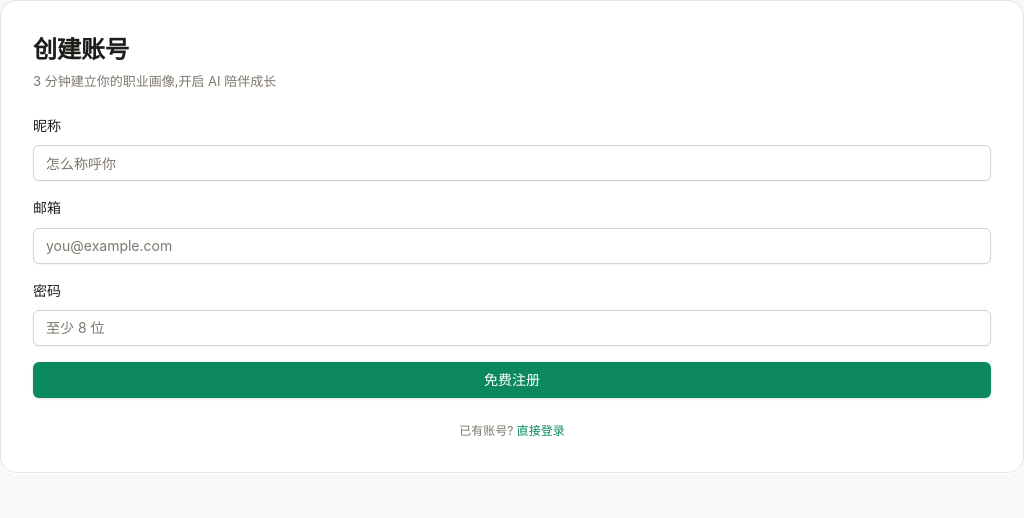
Test: RegisterForm › 服务端字段错误(zodError):映射到对应字段提示
Type "小明" into the field labelled "昵称" at (512, 163), box [33,145,991,181]
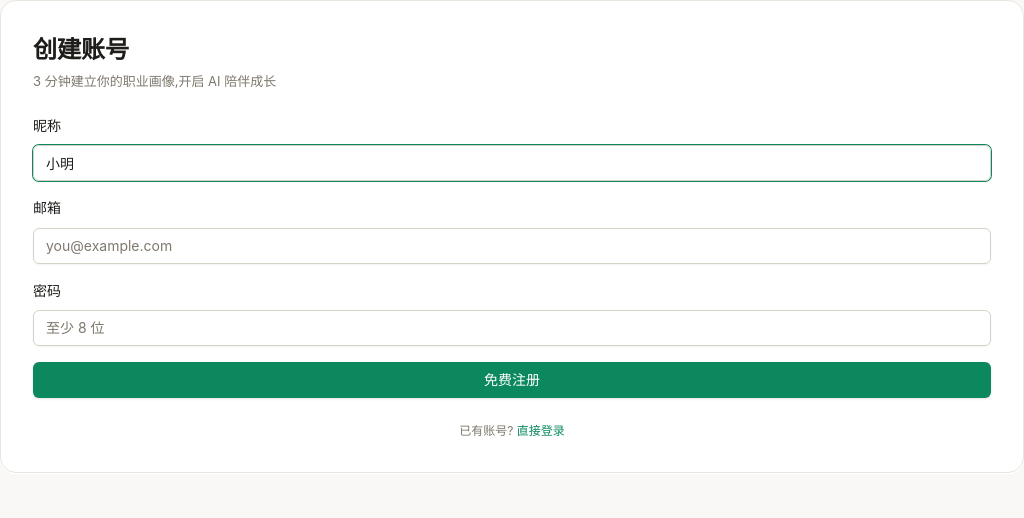
Type "ok@example.com" into the field labelled "邮箱" at (512, 246), box [33,228,991,264]
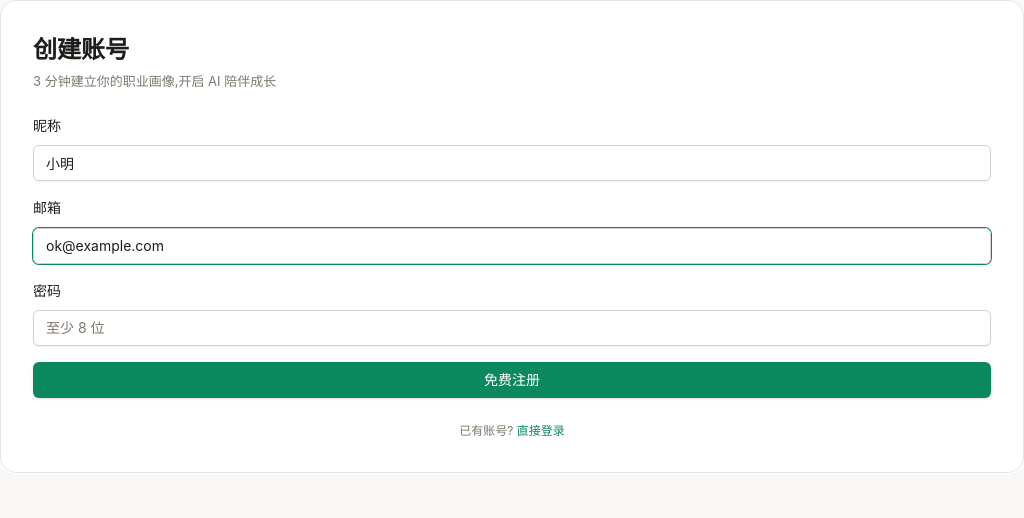
Type "password123" into the password field labelled "密码" at (512, 328), box [33,310,991,346]
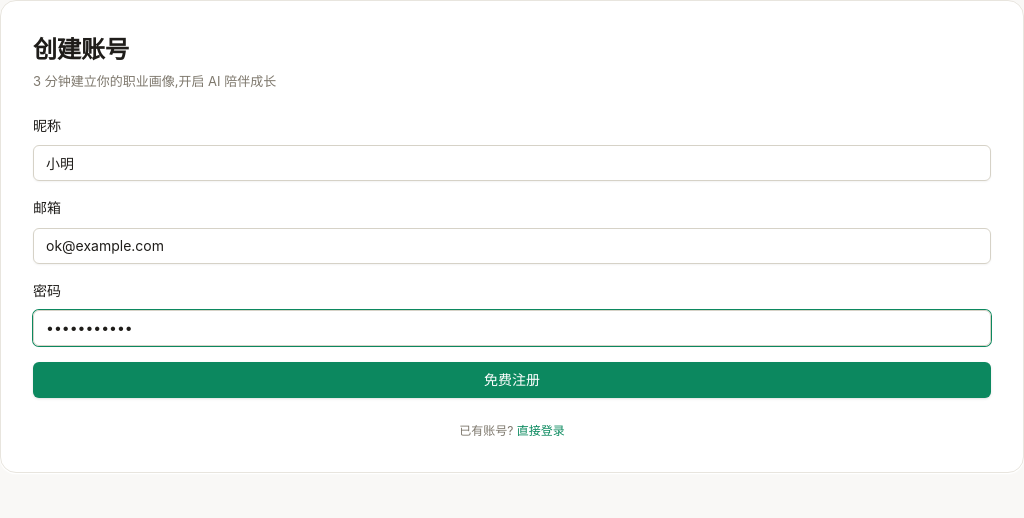
Click the button "免费注册" at (512, 380), box [33,362,991,398]
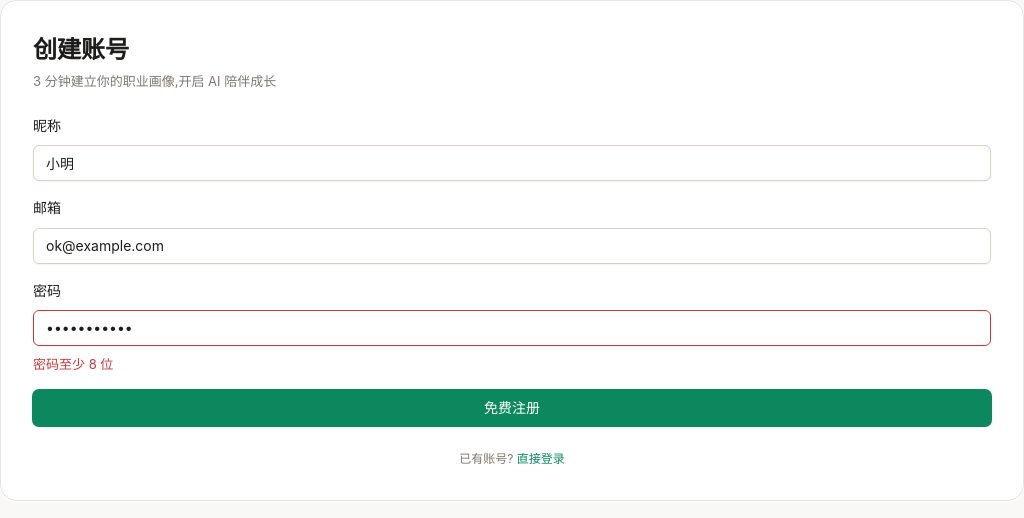
Now the text "密码至少 8 位" is shown, box [33,356,113,372]
